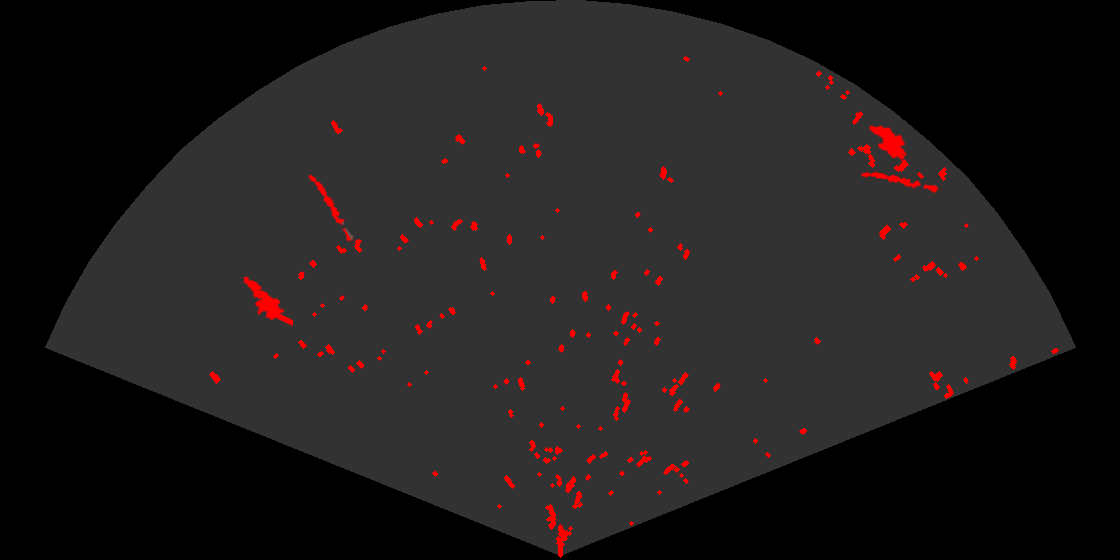AUV: (867, 124, 908, 161)
chain: (307, 173, 357, 245), (859, 170, 942, 195)
frogman: (242, 275, 293, 328)
